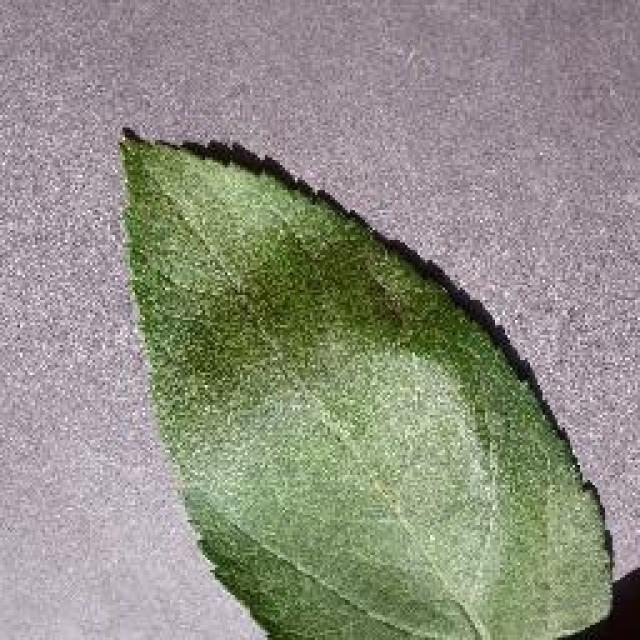Apple___healthy: (102, 122, 628, 640)
